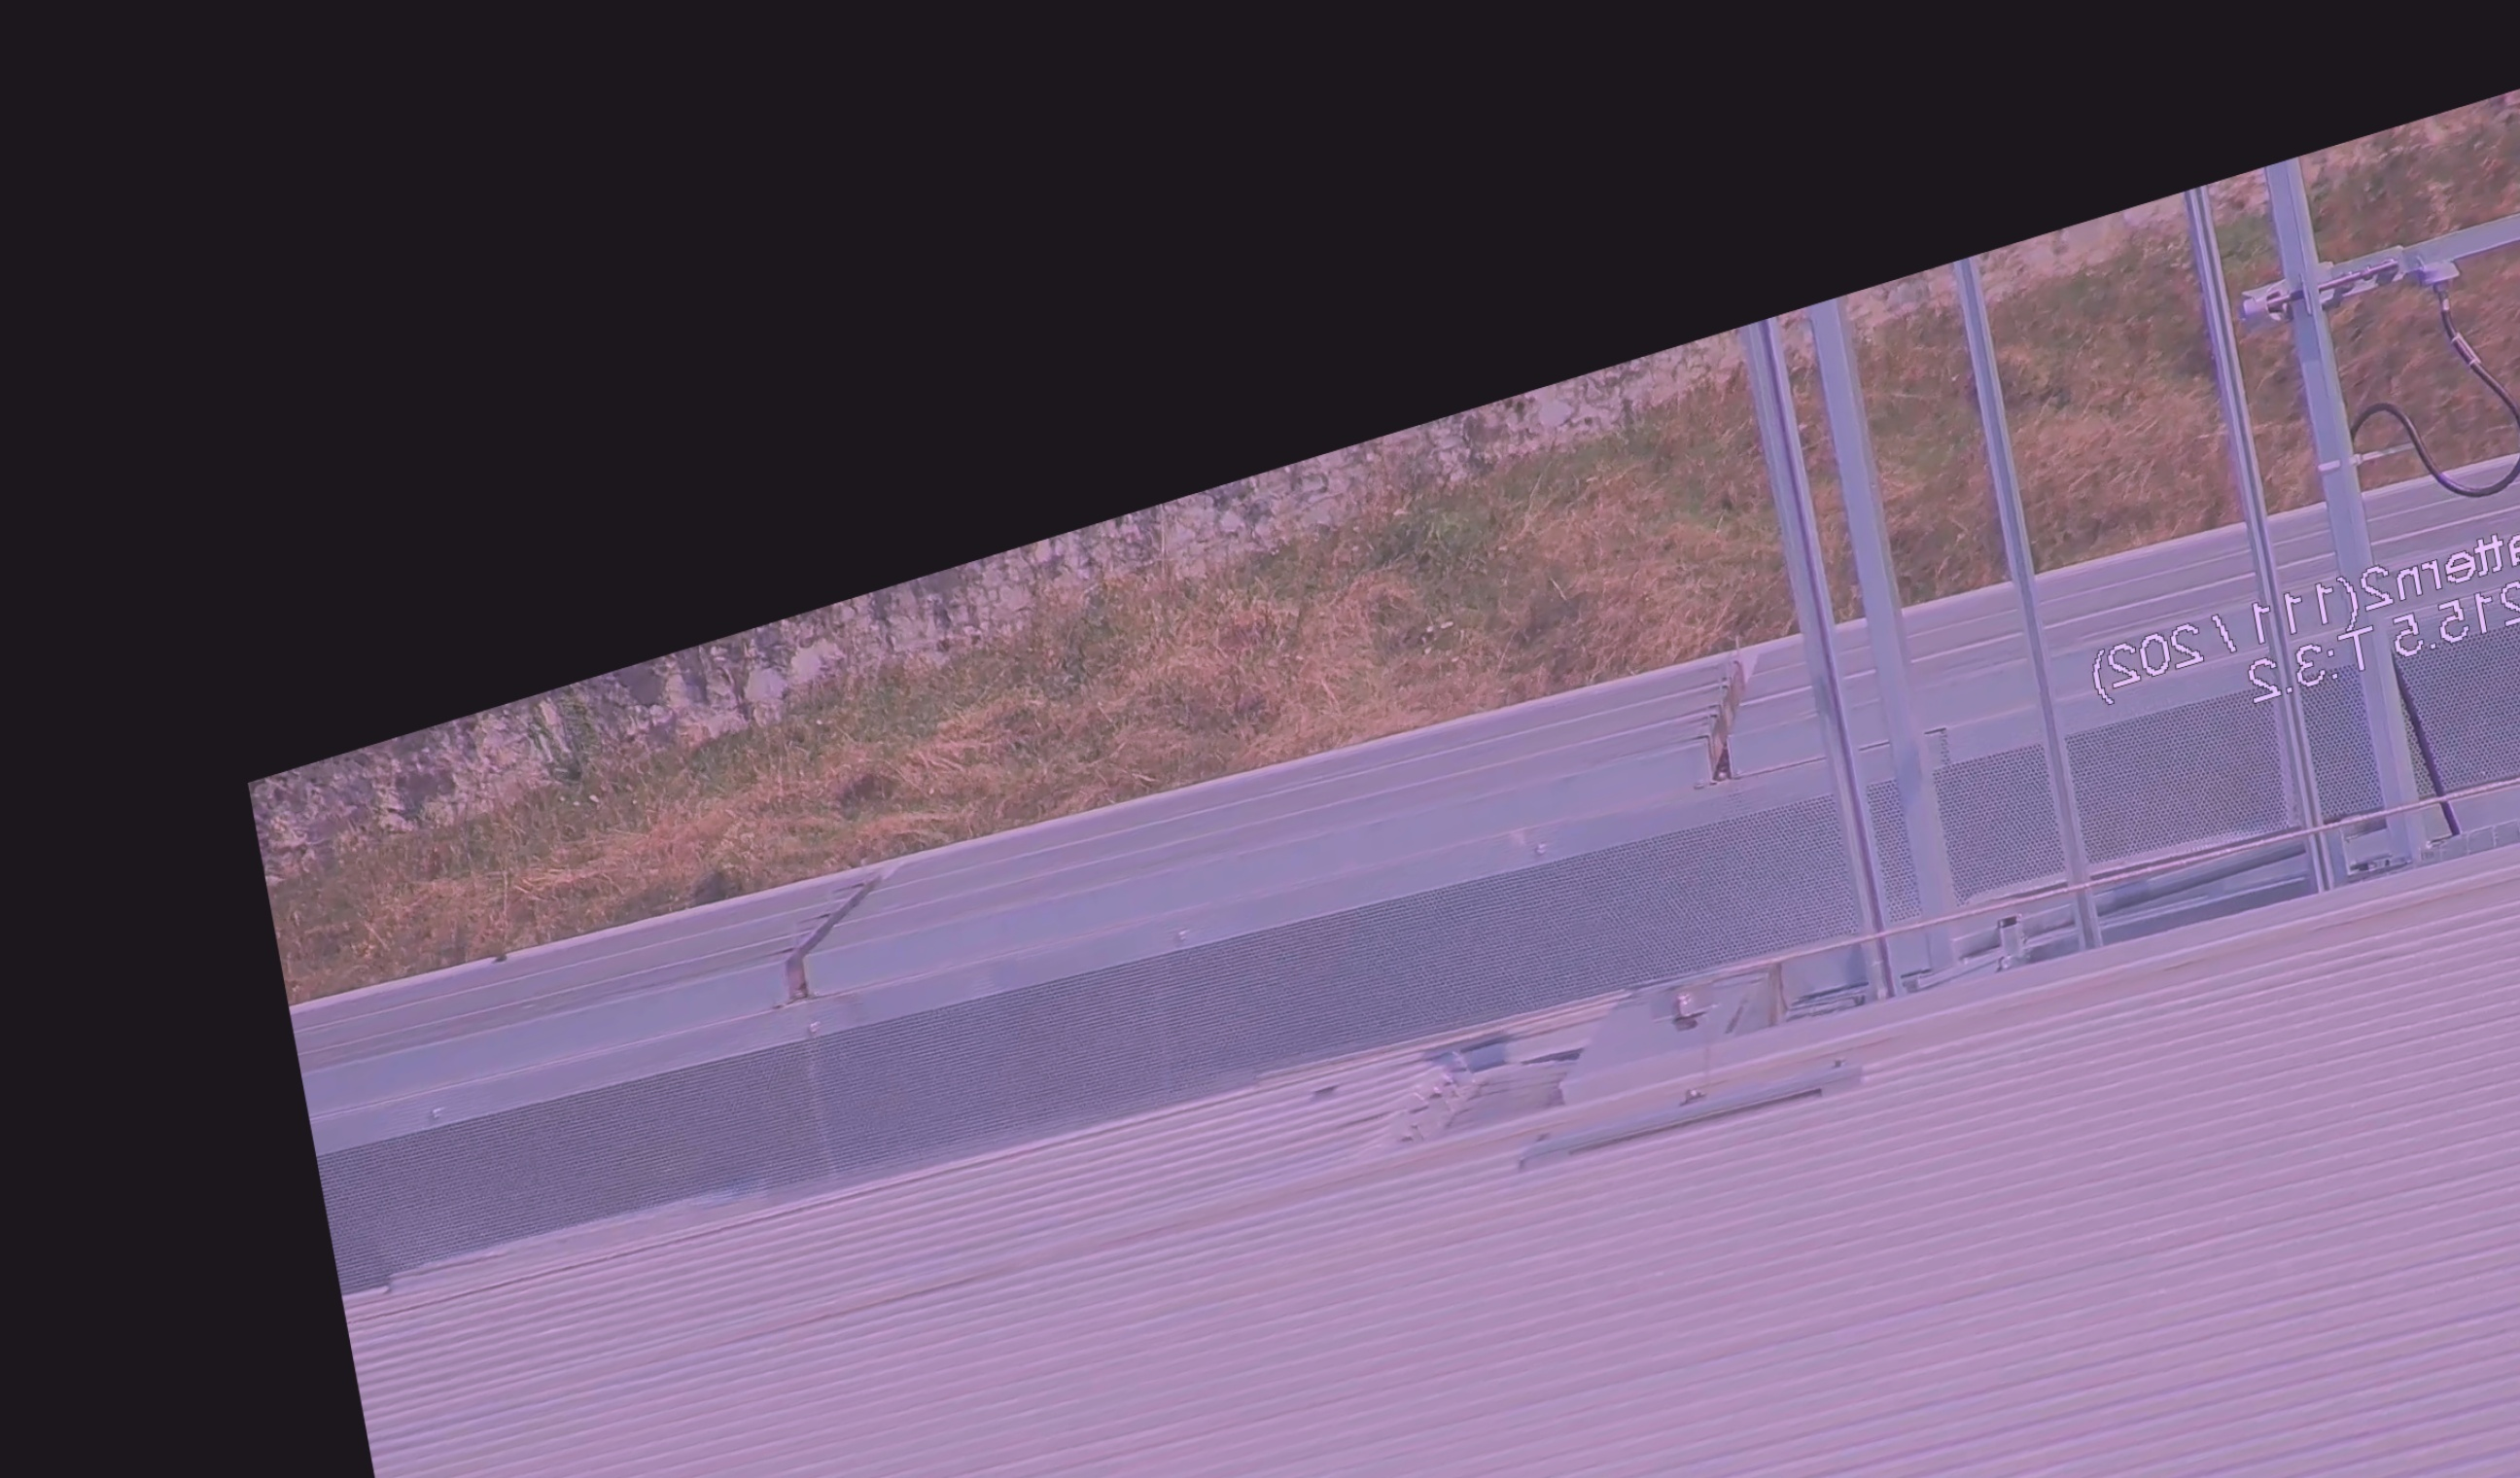Other: (1669, 635, 1781, 788)
